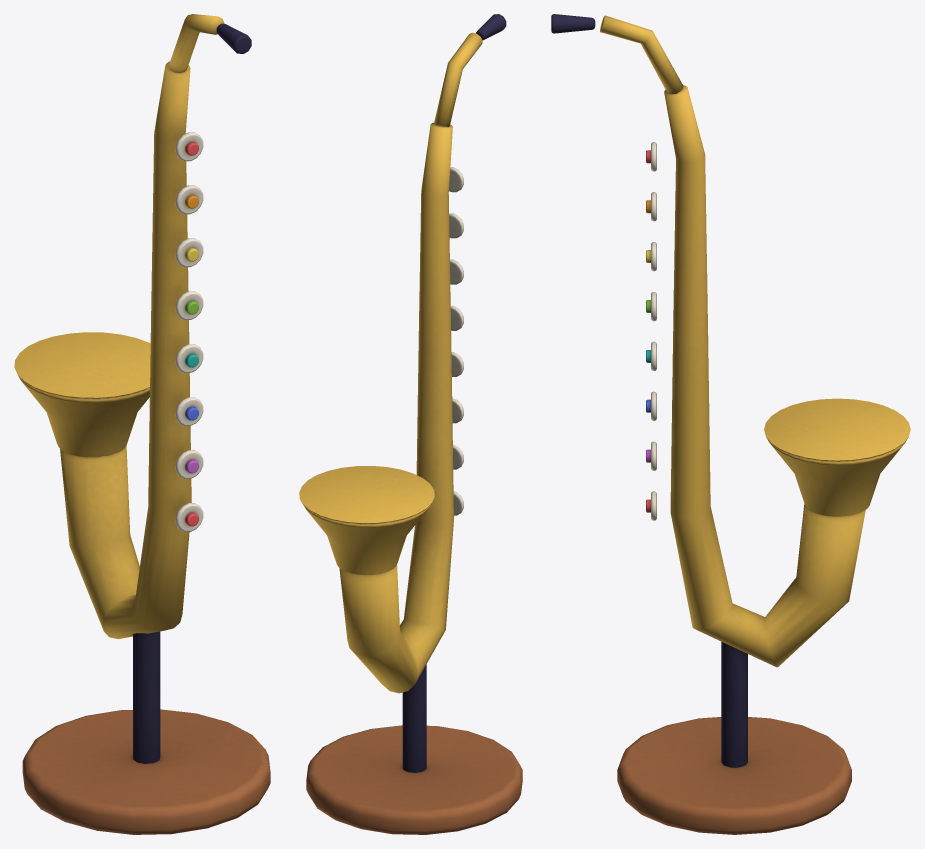
The model's file is Saxophone.fbx.
3 renders of one model, left to right at view 1: azimuth 30°, elevation 25°; view 2: azimuth 150°, elevation 25°; view 3: azimuth 270°, elevation 25°, orthographic. The views are drawn at different scales.
Parts seen in each view (by area): view 1: Saxophone_Body, Key_0_Mesh.002, Key_1_Mesh.002, Key_2_Mesh.002, Key_3_Mesh.001, Key_4_Mesh.001, Key_5_Mesh.001, Key_7_Mesh.001, Key_6_Mesh.001; view 2: Saxophone_Body; view 3: Saxophone_Body.
Part boxes in pixels (x1,y1,x2,y2): Saxophone_Body: (14,14,270,834); Key_0_Mesh.002: (175,132,203,161); Key_1_Mesh.002: (175,185,203,214); Key_2_Mesh.002: (175,238,203,267); Key_3_Mesh.001: (175,291,203,319); Key_4_Mesh.001: (175,344,203,372); Key_5_Mesh.001: (175,397,203,425); Key_7_Mesh.001: (175,503,203,531); Key_6_Mesh.001: (175,450,203,478); Saxophone_Body: (299,14,522,834); Saxophone_Body: (551,14,910,834).
Bounding box in the file's own units: 0.32 × 1.16 × 0.49.
